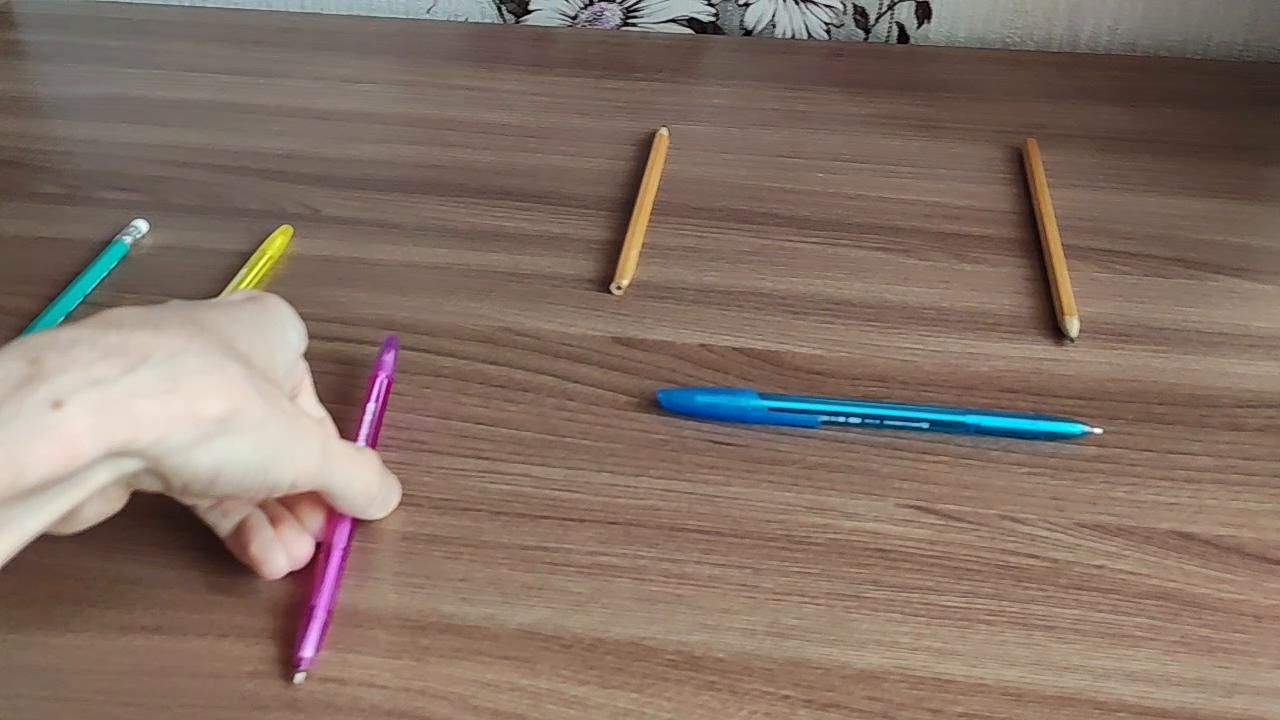pen: (288, 335, 401, 690), (650, 382, 1112, 444), (210, 217, 300, 307)
pencil: (9, 212, 159, 339), (1016, 129, 1088, 348), (609, 116, 676, 300)
